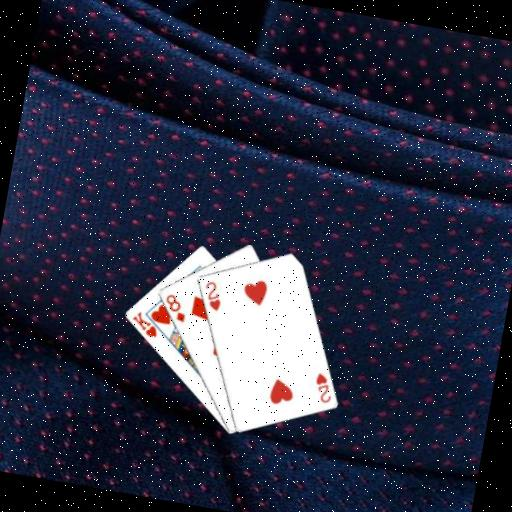2H: (309, 368, 336, 405), (198, 277, 225, 313)
8D: (159, 290, 190, 324)
KH: (126, 307, 162, 339)
